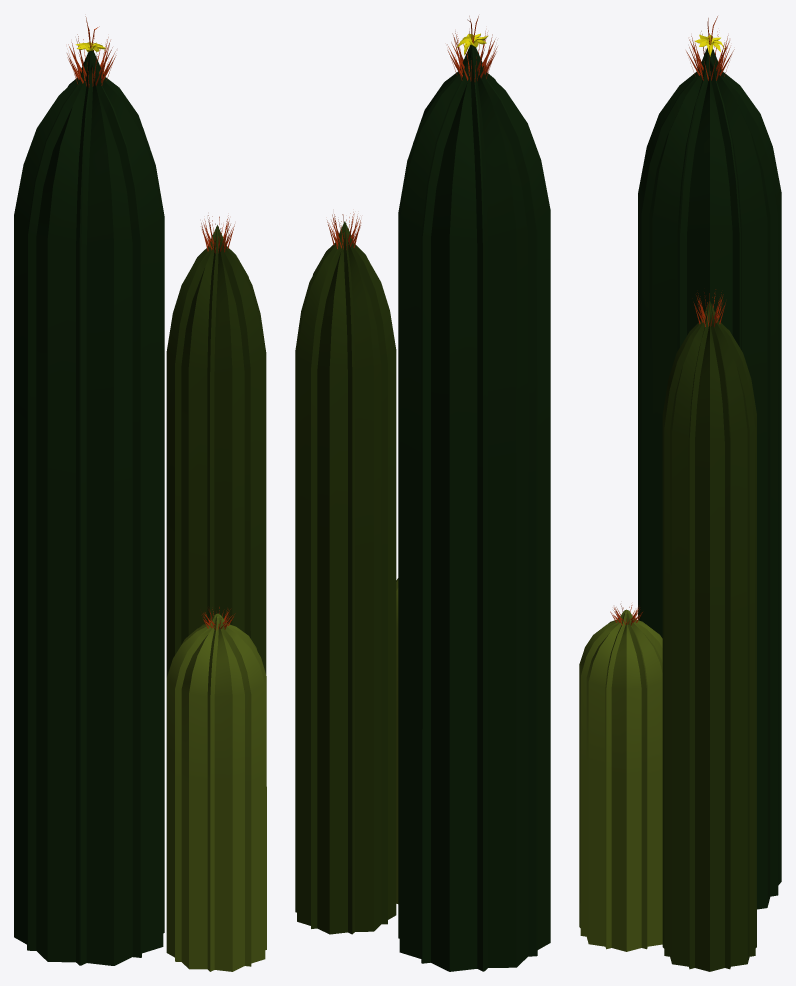
Rendered from BigStraightCactus.FBX.
3 renders of one model, left to right at view 1: azimuth 30°, elevation 25°; view 2: azimuth 150°, elevation 25°; view 3: azimuth 270°, elevation 25°, orthographic. The views are drawn at different scales.
Visible parts, largest first — view 1: BigStraightCactus; view 2: BigStraightCactus; view 3: BigStraightCactus.
Part boxes in pixels (x1,y1,x2,y2): BigStraightCactus: (14,16,266,971); BigStraightCactus: (295,16,550,971); BigStraightCactus: (579,16,781,971).
Bounding box in the file's own units: 24.02 × 90.5 × 18.9.
